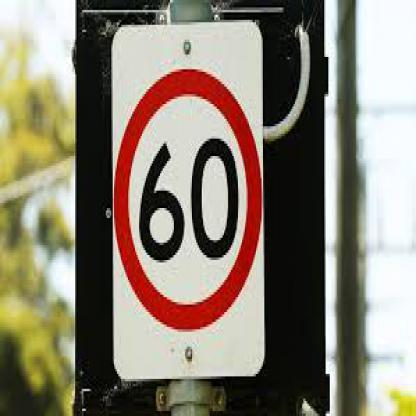Speed Limit 60: (116, 68, 259, 330)
